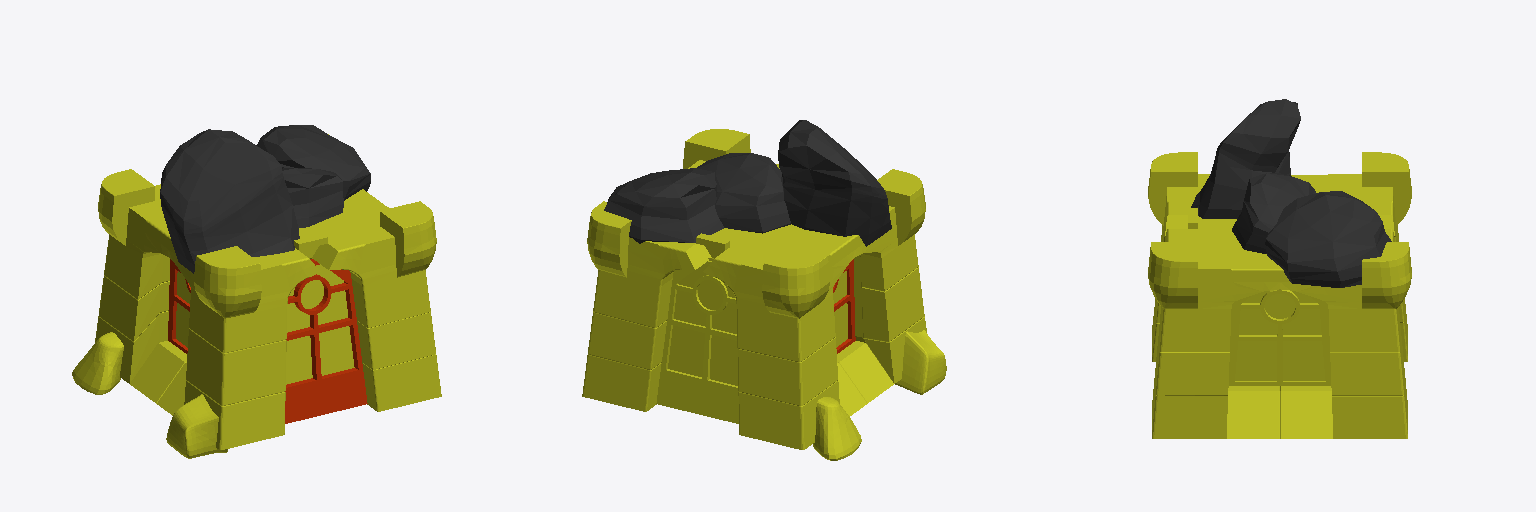
File: house2.obj
The picture shows the model from 3 angles: view 1: azimuth 30°, elevation 25°; view 2: azimuth 150°, elevation 25°; view 3: azimuth 270°, elevation 25°; orthographic projection.
Parts seen in each view (by area): view 1: Cube; view 2: Cube; view 3: Cube.
Part boxes in pixels (x1,y1,x2,y2): Cube: (72, 125, 441, 458); Cube: (582, 120, 946, 460); Cube: (1148, 99, 1411, 438).
Bounding box in the file's own units: 1.73 × 1.72 × 1.52.